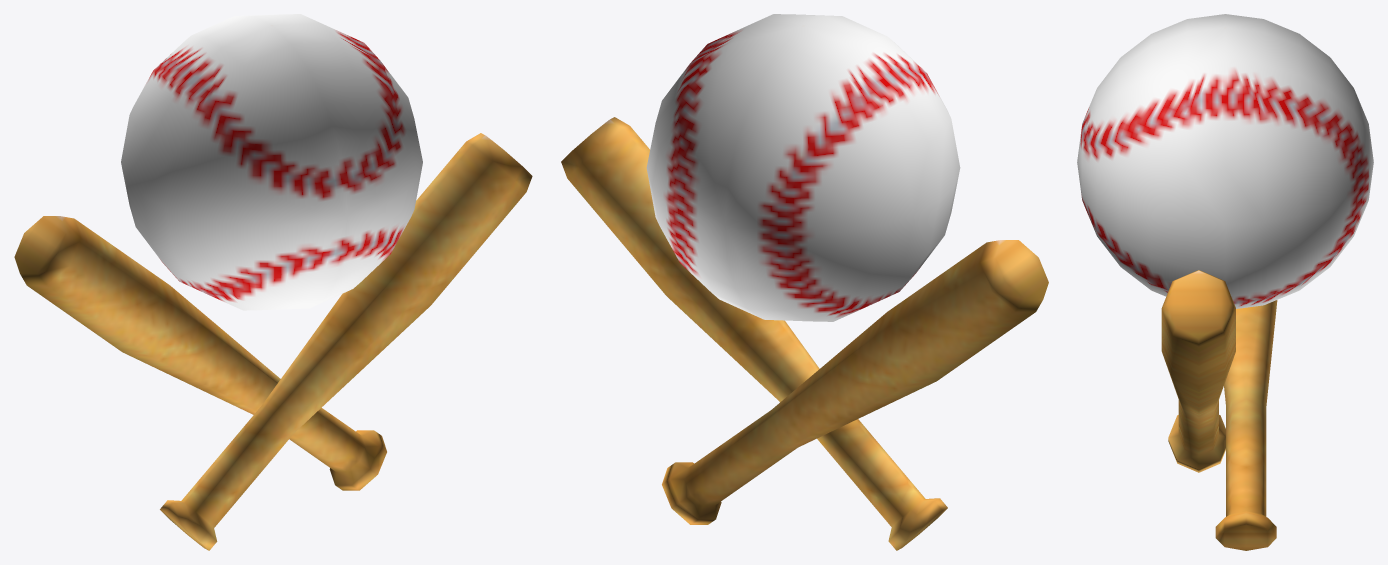
File: view.ico.obj
3 renders of one model, left to right at view 1: azimuth 30°, elevation 25°; view 2: azimuth 150°, elevation 25°; view 3: azimuth 270°, elevation 25°, orthographic. The views are drawn at different scales.
Size of the model in its own units: 5 by 4.88 by 2.71.
Materials: 1 (1 with a texture image).
